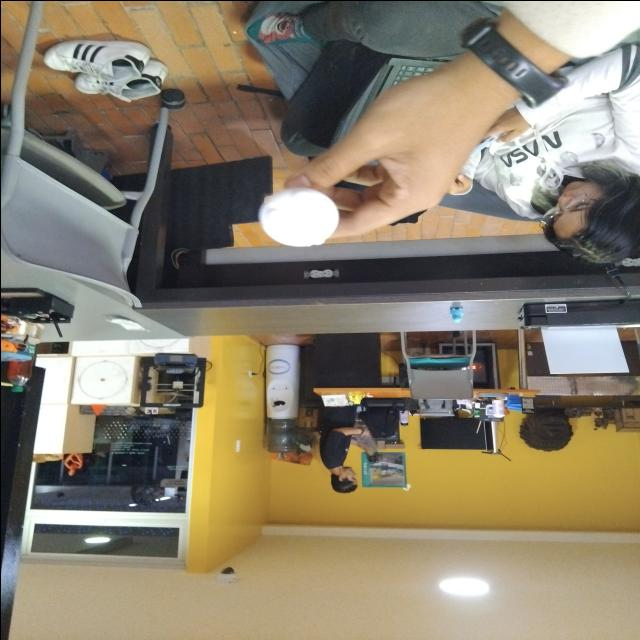Hongo: (248, 190, 348, 252)
